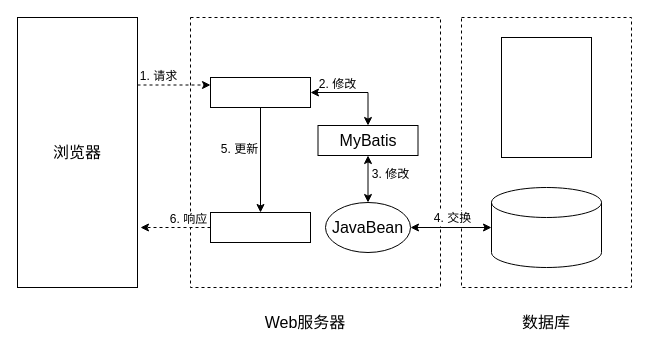
Image size: 649x355. Some labels were removed from this diagram. Each missing label, with the centre of its shape:
"Freemarker" goes at (x=260, y=227).
"Spring MVC" goes at (x=260, y=92).
